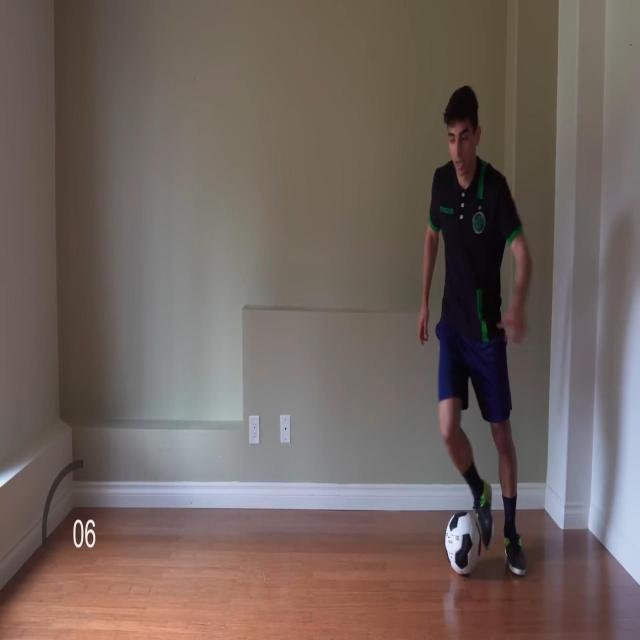Soccer Ball: (446, 509, 481, 576)
